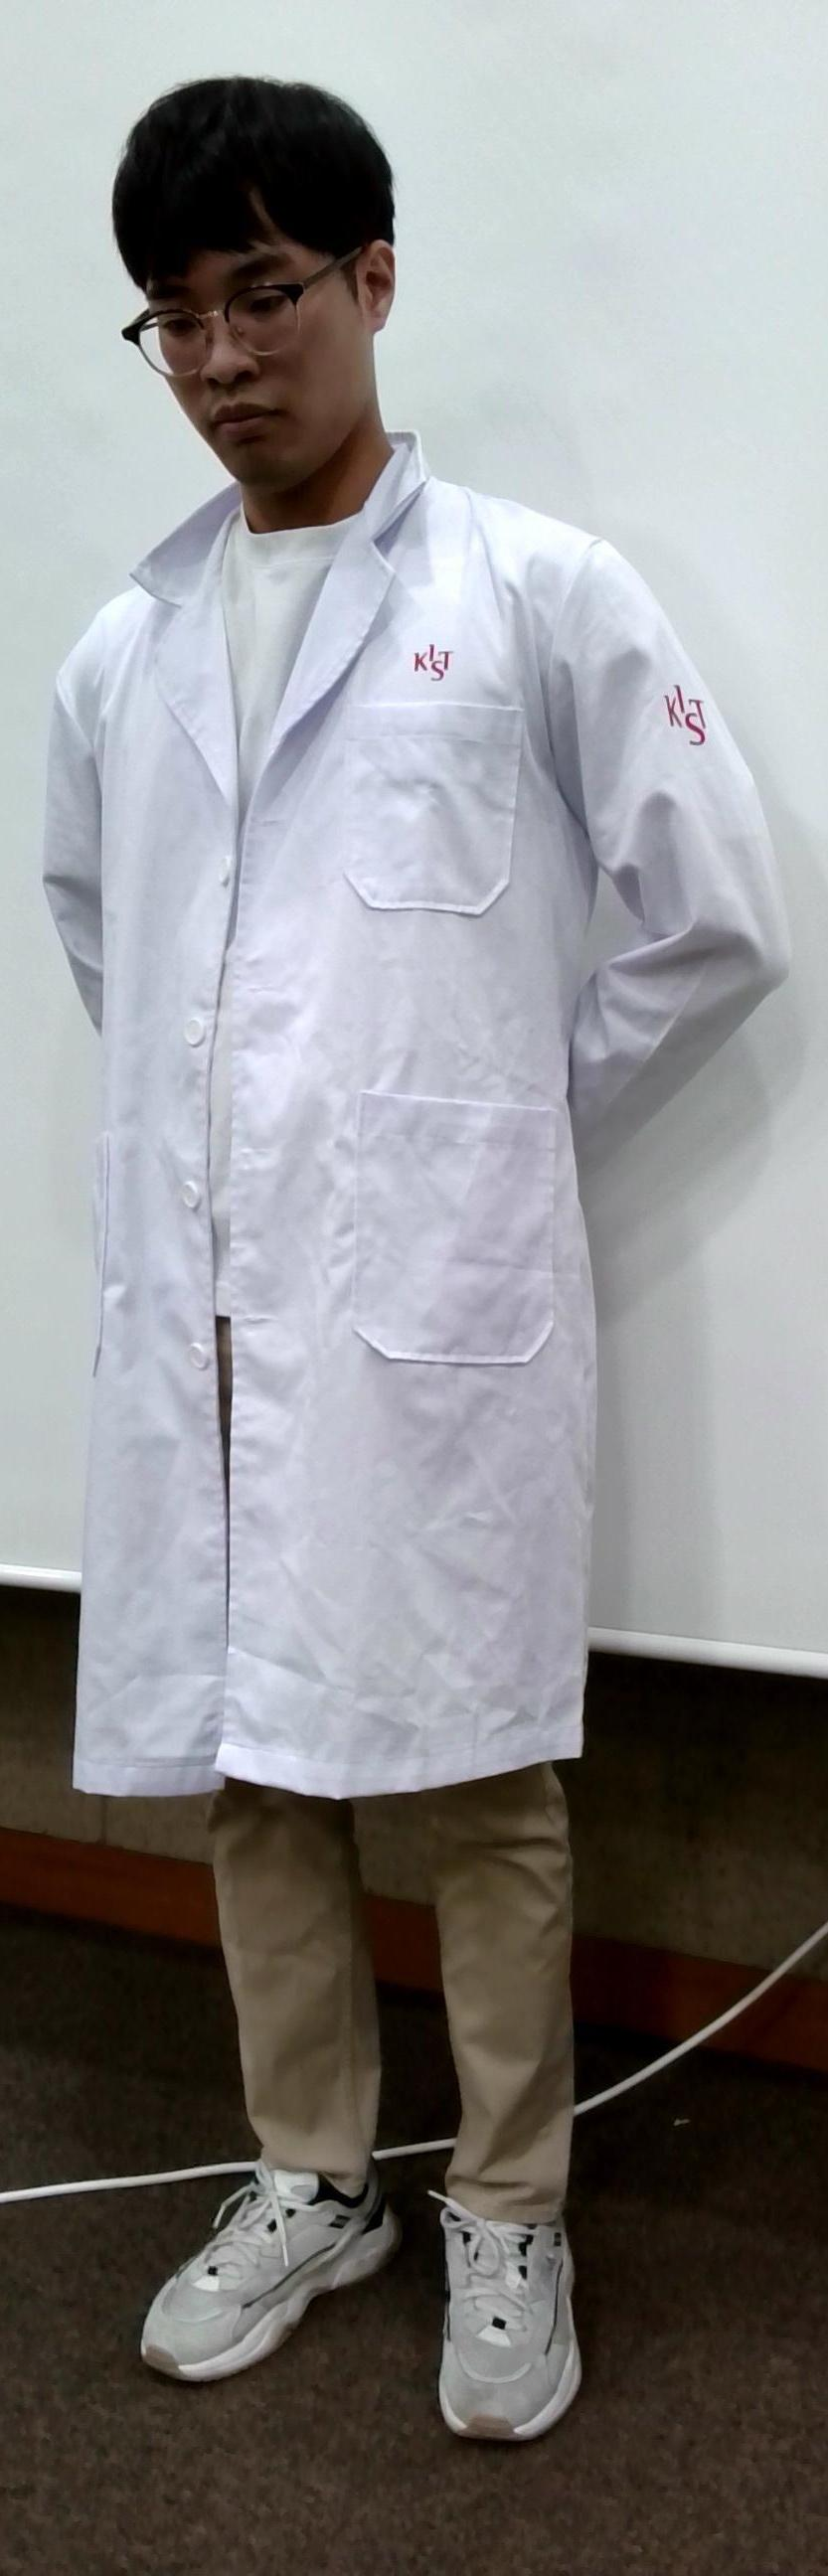lab_coat: (0, 542, 716, 1733)
